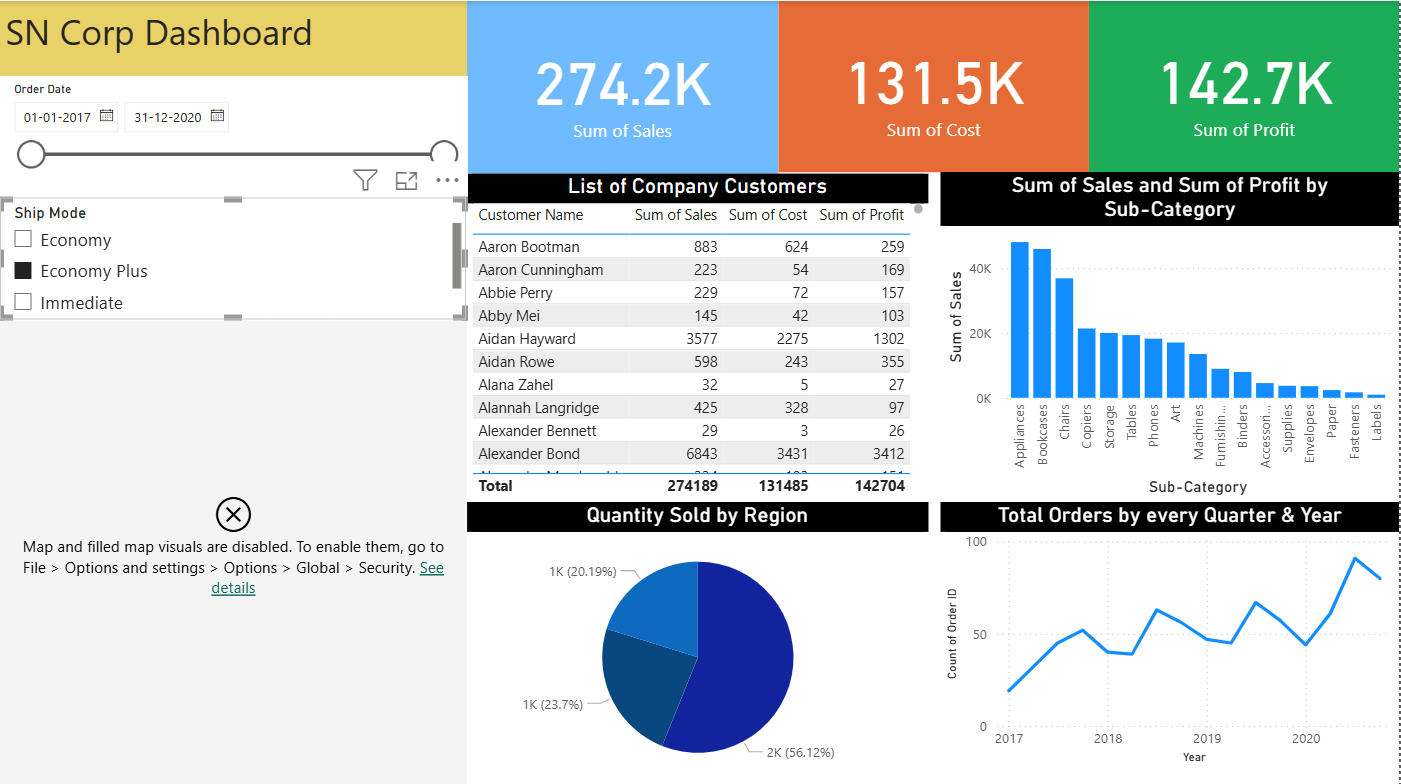

The dashboard page shown, as its layout file describes it:
{"tool":"powerbi","page":{"name":"SN Corp Dashboard","canvas":[1280,720],"ordinal":0},"visuals":[{"type":"card","fields":{"Values":["List of Orders.Sales"]},"box":[427.2,0,285.3,158.3],"z":0},{"type":"card","fields":{"Values":["List of Orders.Cost"]},"box":[712.5,0,283.8,156.8],"z":1000},{"type":"card","fields":{"Values":["List of Orders.Profit"]},"box":[996.3,0,283.8,156.8],"z":2000},{"type":"tableEx","title":"List of Company Customers","fields":{"Values":["List of Orders.Customer Name","List of Orders.Sales","List of Orders.Cost","List of Orders.Profit"]},"box":[427.2,158.3,422.7,300.2],"z":3000},{"type":"clusteredColumnChart","fields":{"Y":["List of Orders.Sales"],"Category":["List of Orders.Sub-Category"]},"box":[860.4,156.8,419.8,300.2],"z":4000},{"type":"pieChart","title":"Quantity Sold by Region","fields":{"Y":["List of Orders.Quantity"],"Category":["List of Orders.Region"]},"box":[427.2,458.6,422.7,261.4],"z":5000},{"type":"lineChart","title":"Total Orders by every Quarter & Year","fields":{"Category":["List of Orders.Order Date.Variation.Date Hierarchy.Year","List of Orders.Order Date.Variation.Date Hierarchy.Quarter"],"Y":["List of Orders.Order ID"]},"box":[860.4,458.6,419.8,243.5],"z":6000},{"type":"textbox","box":[0,0,427.2,68.7],"z":7000},{"type":"slicer","fields":{"Values":["List of Orders.Order Date"]},"box":[0,68.7,427.2,110.5],"z":8000},{"type":"slicer","fields":{"Values":["List of Orders.Ship Mode"]},"box":[0,179.3,427.2,112],"z":9000},{"type":"map","title":"Business by Countries Served","fields":{"Category":["List of Orders.Country"],"Size":["List of Orders.Quantity"]},"box":[0,291.3,427.2,428.7],"z":10000}]}

Visuals, with their boxes on the page's 1280x720 design canvas (x1, y1, x2, y2). These are canvas units, not pixel positions in the 1401x784 screenshot, which may show the page scaled, cropped or inside an application window:
card - List of Orders.Sales: x1=427, y1=0, x2=712, y2=158
card - List of Orders.Cost: x1=712, y1=0, x2=996, y2=157
card - List of Orders.Profit: x1=996, y1=0, x2=1280, y2=157
"List of Company Customers" tableEx: x1=427, y1=158, x2=850, y2=458
clusteredColumnChart - List of Orders.Sales x List of Orders.Sub-Category: x1=860, y1=157, x2=1280, y2=457
"Quantity Sold by Region" pieChart: x1=427, y1=459, x2=850, y2=720
"Total Orders by every Quarter & Year" lineChart: x1=860, y1=459, x2=1280, y2=702
textbox: x1=0, y1=0, x2=427, y2=69
slicer - List of Orders.Order Date: x1=0, y1=69, x2=427, y2=179
slicer - List of Orders.Ship Mode: x1=0, y1=179, x2=427, y2=291
"Business by Countries Served" map: x1=0, y1=291, x2=427, y2=720
